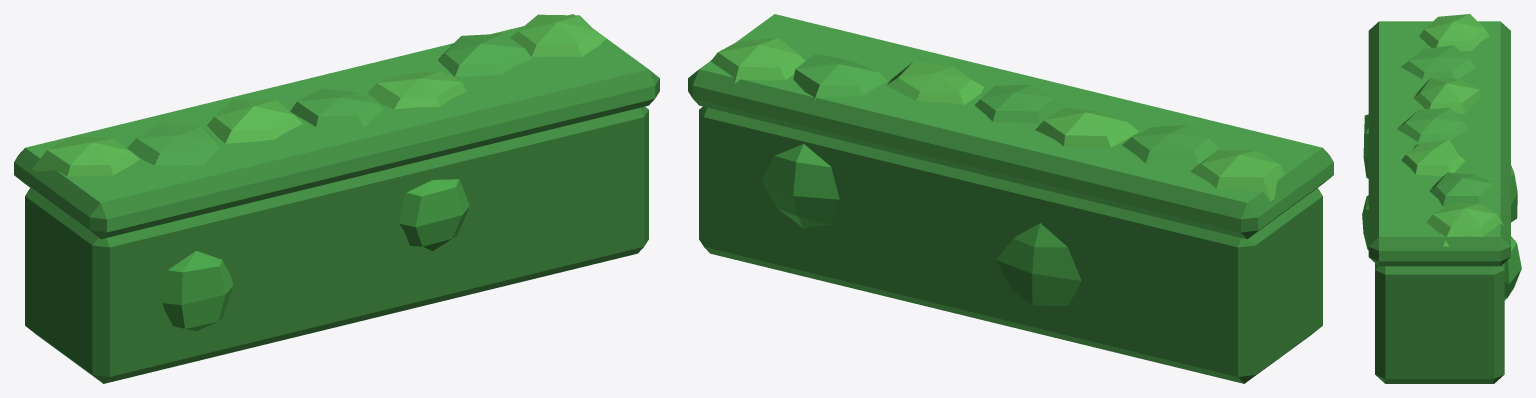
Rendered from hedge.glb.
The picture shows the model from 3 angles, left to right: view 1: azimuth 30°, elevation 25°; view 2: azimuth 150°, elevation 25°; view 3: azimuth 270°, elevation 25°; orthographic projection. The views are drawn at different scales.
Visible parts, largest first — view 1: hedge-m; view 2: hedge-m; view 3: hedge-m.
Boxes of the visible parts, bbox=[...] form: hedge-m: bbox=[14, 14, 659, 383]; hedge-m: bbox=[688, 14, 1333, 383]; hedge-m: bbox=[1362, 14, 1521, 383].
Size of the model in its own units: 4.1 by 1.4 by 1.23.
